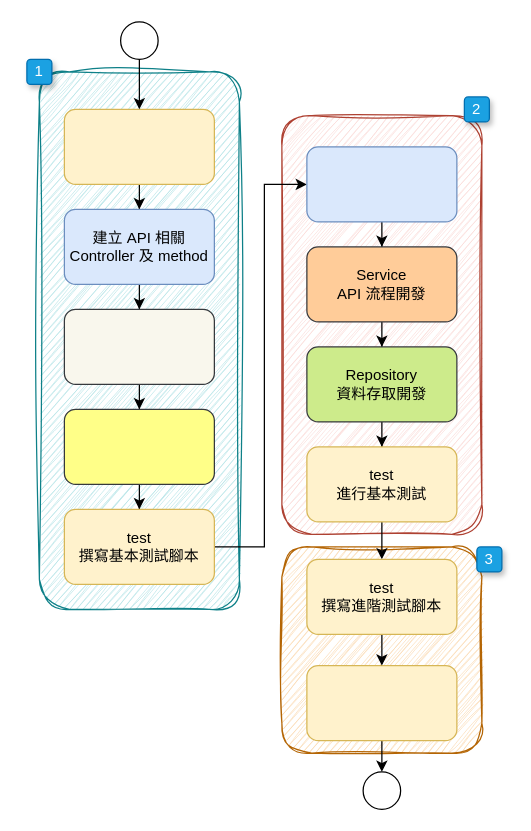
Image size: 531x831. Some labels were removed from this diagram. Each missing label, with the centre of its shape:
"Controller 介面處理" goes at pixel 381 184.
"Request 建立 Validation 過濾器" goes at pixel 138 446.
"test 建立測試程式" goes at pixel 138 146.
"test 進行進階測試" goes at pixel 381 702.
"設定 Route" goes at pixel 138 346.
